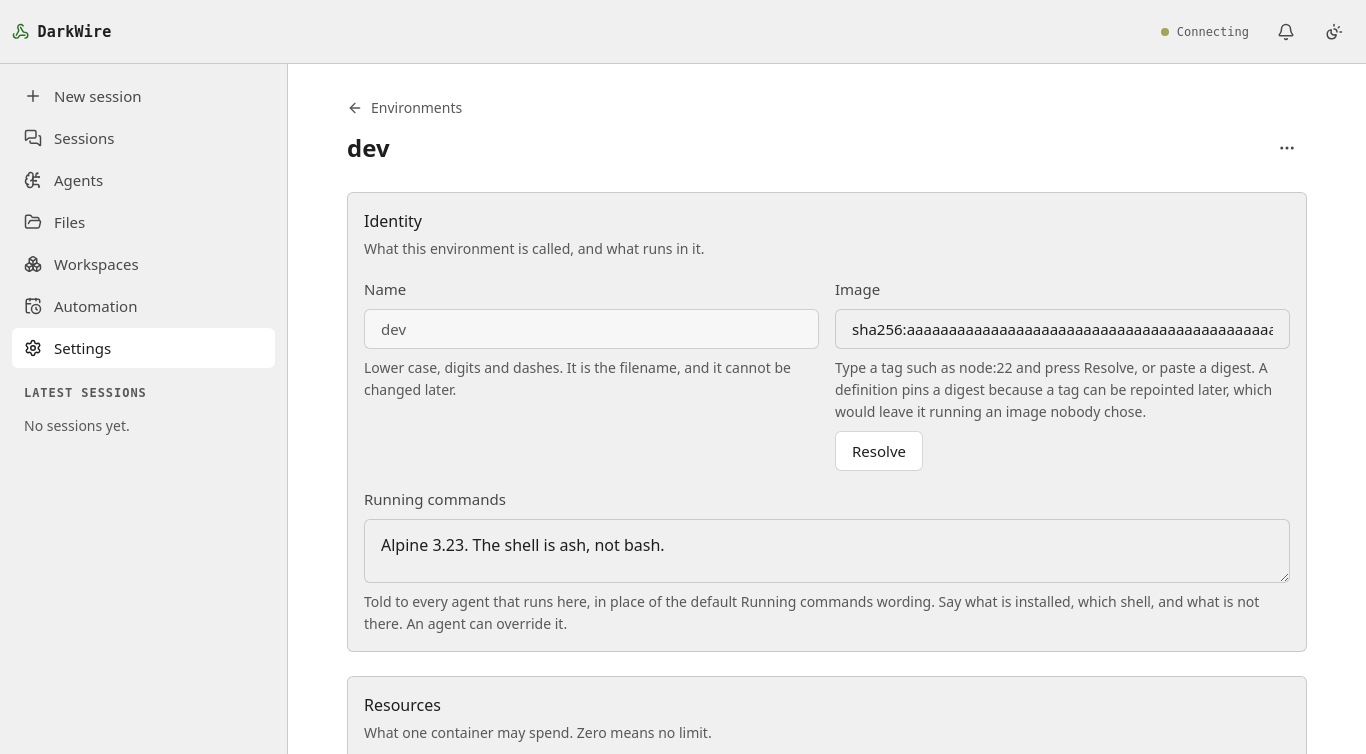
Scenario: the environment editor › resolving an image › says what the engine said when there is no such image
Replace the text in the field labelled "Image" with "node:nope" at (1062, 329), box top-left (835, 309), bottom-right (1290, 349)
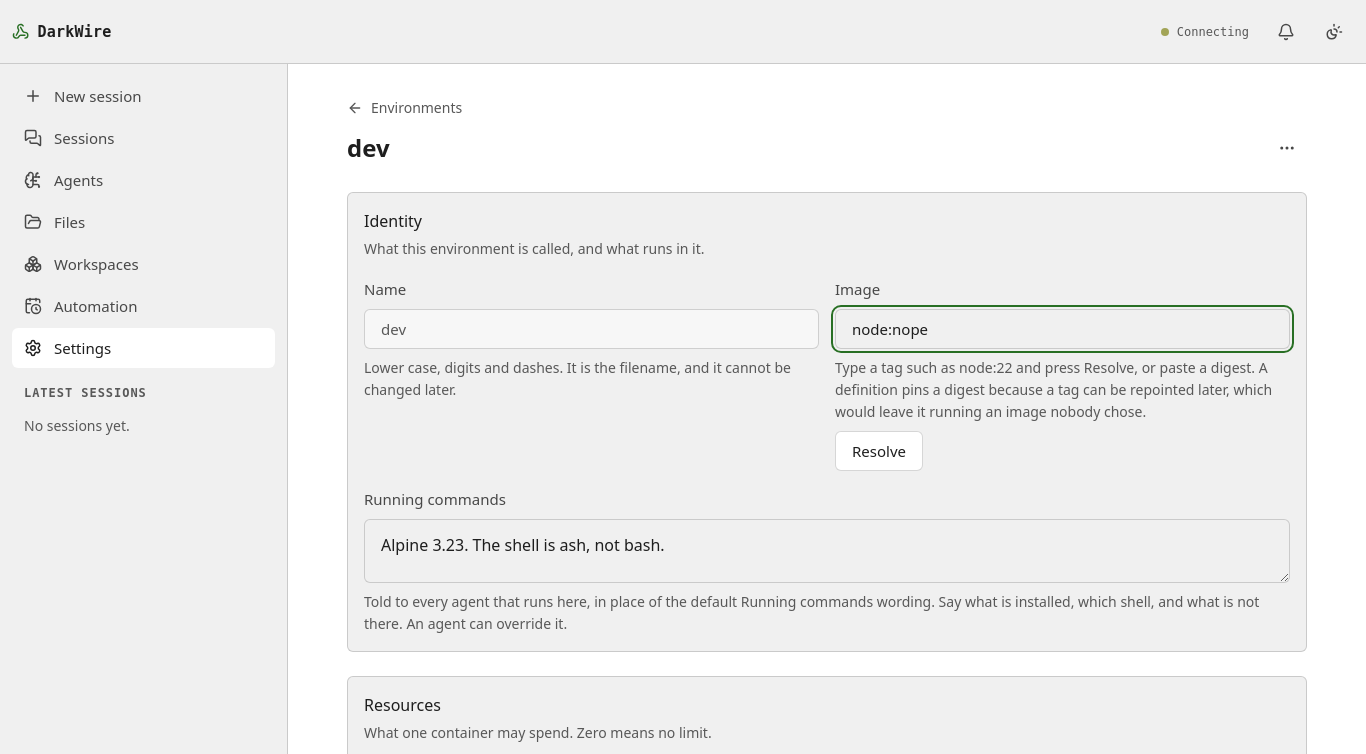
Click the button "Resolve" at (879, 451), box top-left (835, 431), bottom-right (923, 471)
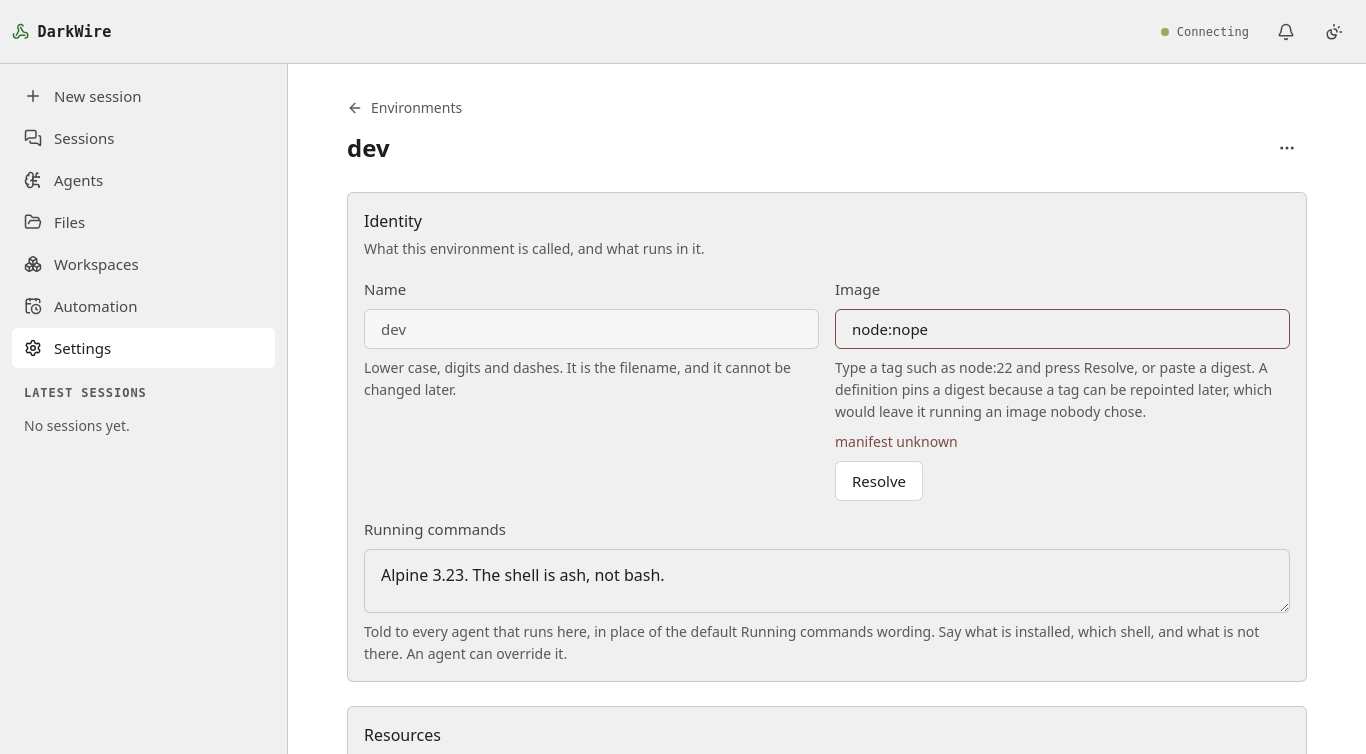
Check: the text "manifest unknown" is shown, box top-left (835, 432), bottom-right (958, 451)
